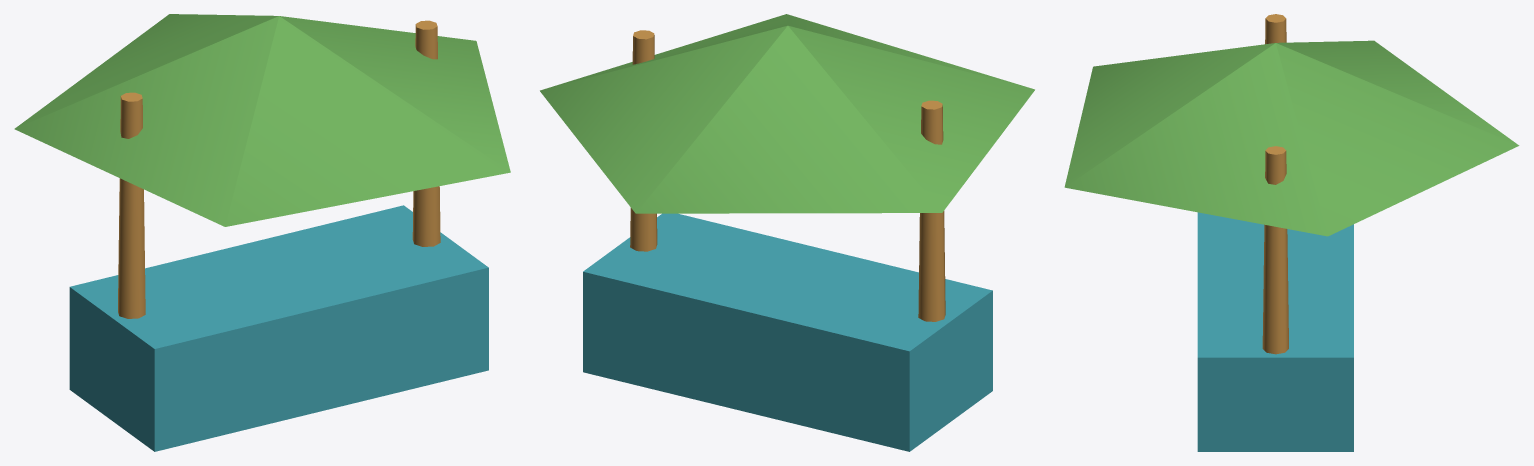
File: market_booth.glb
3 views of the same model, side by side, from view 1: azimuth 30°, elevation 25°; view 2: azimuth 150°, elevation 25°; view 3: azimuth 270°, elevation 25° (orthographic). The views are drawn at different scales.
Visible parts, largest first — view 1: booth_canopy, booth_counter, booth_post_-1, booth_post_1; view 2: booth_canopy, booth_counter, booth_post_-1, booth_post_1; view 3: booth_canopy, booth_counter, booth_post_1, booth_post_-1.
Boxes of the visible parts, x1=… form: booth_canopy: x1=14, y1=14, x2=510, y2=226; booth_counter: x1=69, y1=205, x2=488, y2=451; booth_post_-1: x1=118, y1=92, x2=145, y2=318; booth_post_1: x1=412, y1=20, x2=440, y2=246; booth_canopy: x1=540, y1=14, x2=1034, y2=213; booth_counter: x1=583, y1=213, x2=992, y2=451; booth_post_-1: x1=918, y1=100, x2=945, y2=321; booth_post_1: x1=630, y1=30, x2=657, y2=251; booth_canopy: x1=1064, y1=40, x2=1519, y2=236; booth_counter: x1=1197, y1=212, x2=1353, y2=451; booth_post_1: x1=1262, y1=146, x2=1288, y2=354; booth_post_-1: x1=1265, y1=14, x2=1286, y2=44.
Size of what is drawn, in the model's own units: 4.45 by 3.54 by 4.37.
